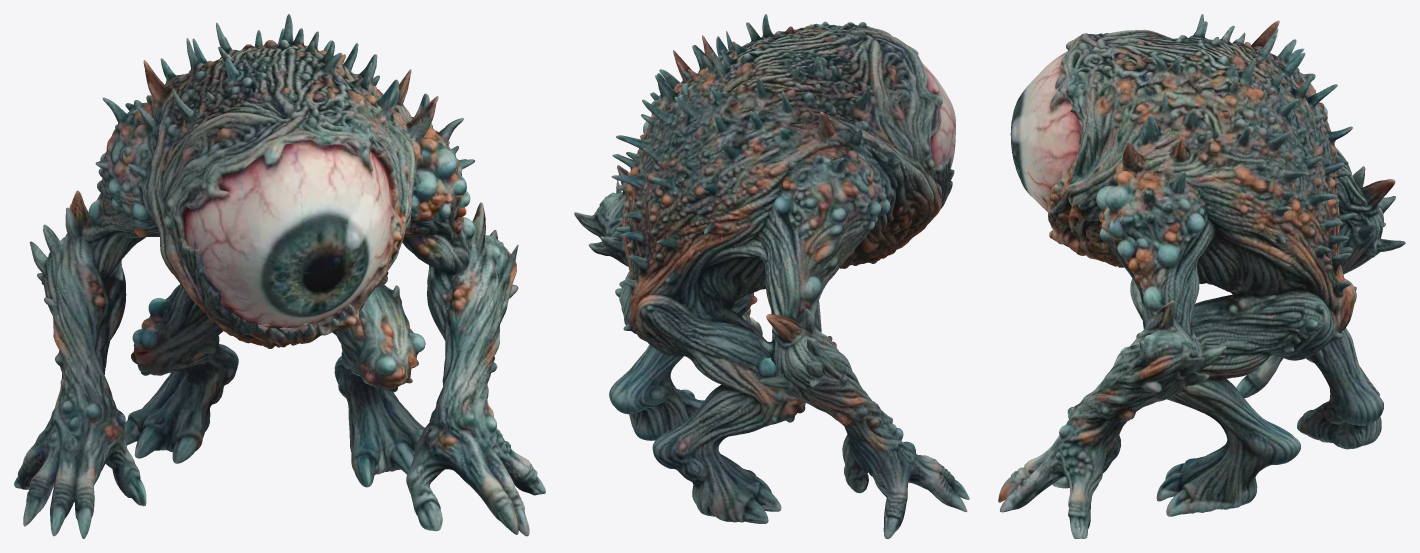
File: noxic.glb
3 views of the same model, side by side, from view 1: azimuth 30°, elevation 25°; view 2: azimuth 150°, elevation 25°; view 3: azimuth 270°, elevation 25° (orthographic). The views are drawn at different scales.
Size of the model in its own units: 1.9 by 1.8 by 1.62.
Materials: 1 (1 with a texture image).
